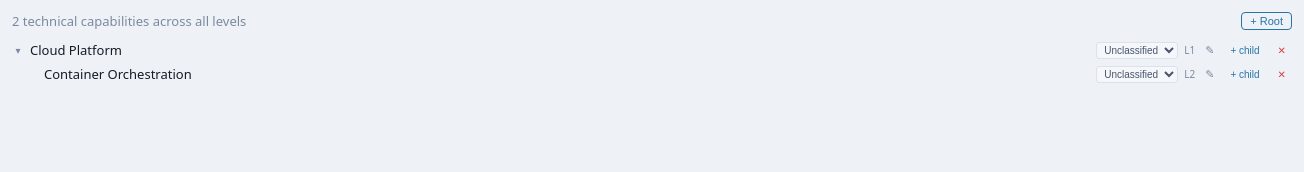
it: TechCapTree component › cancels an inline edit without saving
The image size is (1304, 172).
Click the button titled "Edit" in the row of "Cloud Platform": coordinates (1210, 50) x1=1201 y1=42 x2=1218 y2=58
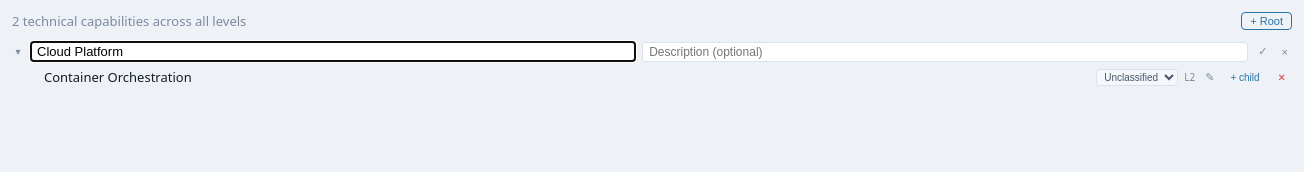
Replace the text in the field showing "Cloud Platform" with "Should Not Save": coordinates (333, 52) x1=30 y1=41 x2=636 y2=62
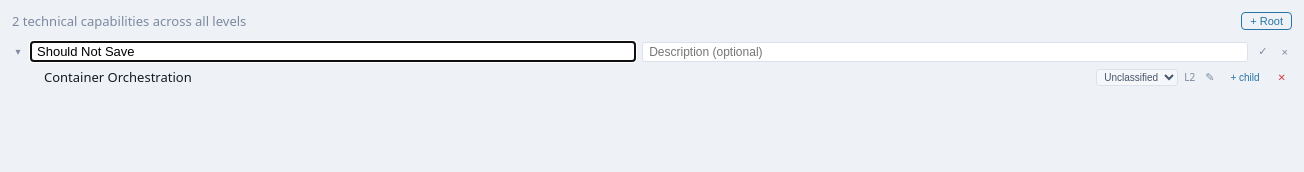
Click the button titled "Cancel": coordinates (1285, 52) x1=1278 y1=44 x2=1292 y2=58
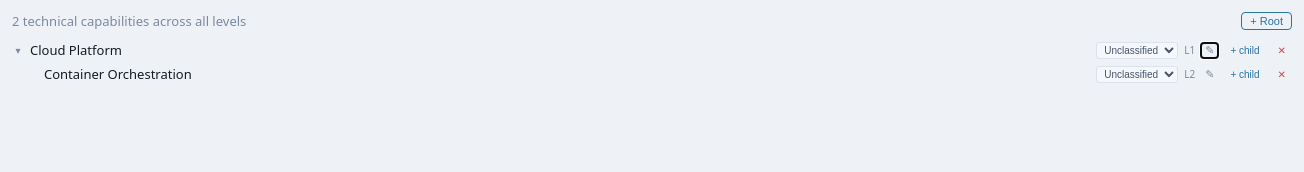
Expected: the text "Cloud Platform" is shown, x1=30 y1=41 x2=122 y2=59
